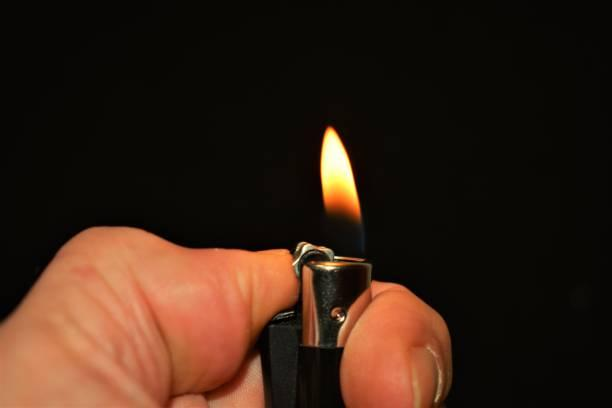Fire: (317, 124, 368, 224)
